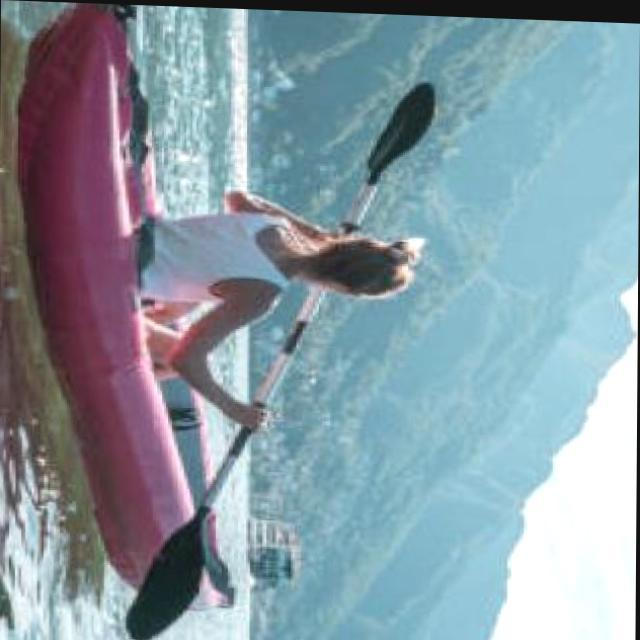kayak: (11, 2, 199, 640)
